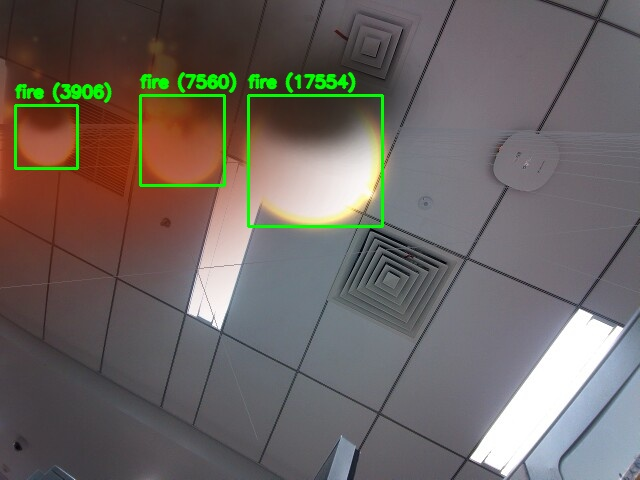fire: (248, 95, 382, 226), (140, 95, 224, 185), (15, 105, 77, 168)
